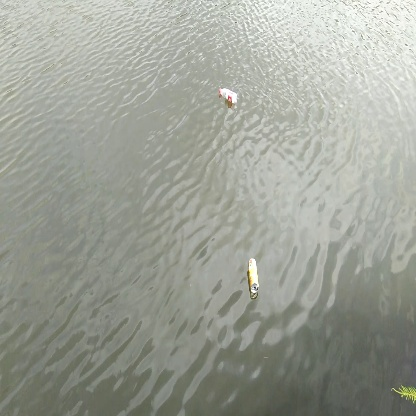bottle: (211, 83, 244, 110), (244, 256, 263, 294)
